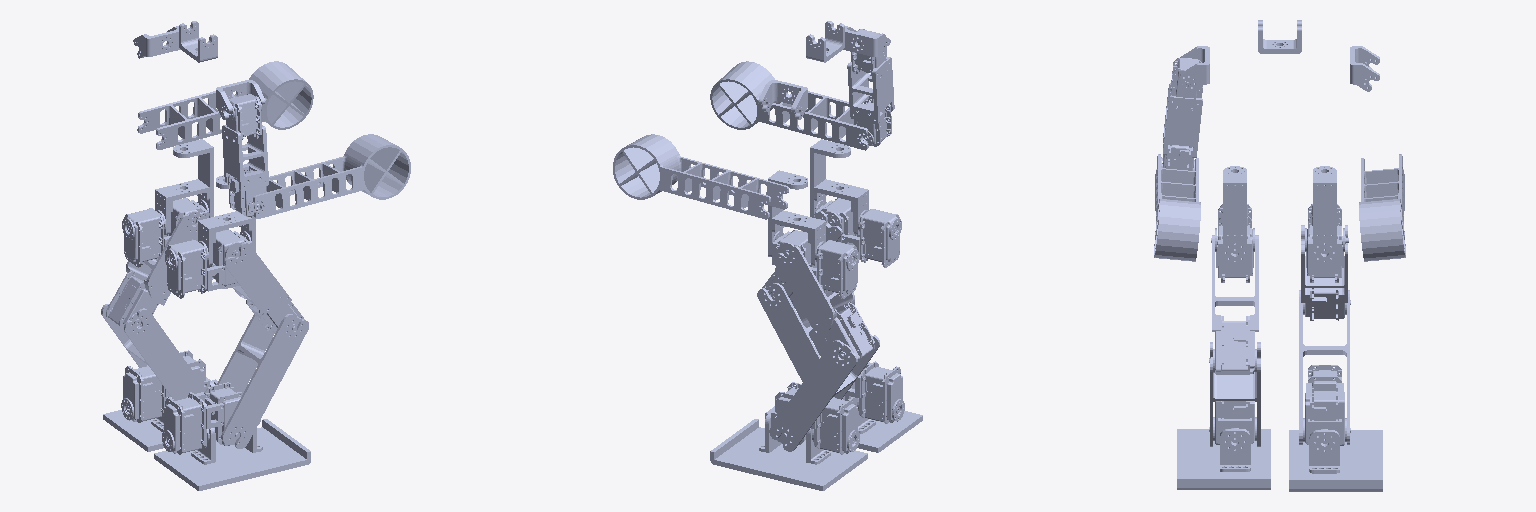
--- Facts derived from the render (not from the file) ---
Views: 3 orthographic renders of the robot side by side, from view 1: azimuth 30°, elevation 25°; view 2: azimuth 150°, elevation 25°; view 3: azimuth 270°, elevation 25°.
Model kubot23N with 21 links and 20 joints (10 revolute, 10 fixed), rooted at base_link, posed all joints at 0.
Visible links, largest first — view 1: R_hand_pitch, R_Knee, L_hand_pitch, R_Ankle_roll, R_elbow_roll, R_Ankle_pitch, L_Knee, R_Hip_roll, L_Hip_pitch, R_Hip_pitch, L_Hip_roll, L_Ankle_pitch (+6 smaller); view 2: L_hand_pitch, R_hand_pitch, L_Ankle_roll, L_Hip_pitch, L_Knee, R_elbow_roll, R_Hip_roll, L_Hip_roll, L_Ankle_pitch, R_Knee, R_Ankle_pitch, R_Hip_yaw (+6 smaller); view 3: L_Ankle_roll, L_hand_pitch, R_hand_pitch, R_Ankle_roll, L_Ankle_pitch, R_Hip_pitch, R_elbow_roll, R_Ankle_pitch, L_Hip_yaw, R_Hip_yaw, L_Hip_pitch, R_Knee (+6 smaller).
Boxes of the visible links, x1,y1,x2,y2 form: R_hand_pitch: (253,134,410,218); R_Knee: (216,314,308,448); L_hand_pitch: (137,61,313,149); R_Ankle_roll: (154,419,310,490); R_elbow_roll: (222,94,268,216); R_Ankle_pitch: (162,382,262,454); L_Knee: (101,304,205,400); R_Hip_roll: (165,230,251,298); L_Hip_pitch: (106,214,197,327); R_Hip_pitch: (224,229,303,332); L_Hip_roll: (122,198,209,267); L_Ankle_pitch: (121,350,214,422); L_hand_pitch: (613,134,788,219); R_hand_pitch: (710,61,868,150); L_Ankle_roll: (710,419,867,490); L_Hip_pitch: (774,246,874,359); L_Knee: (769,335,879,451); R_elbow_roll: (847,29,894,146); R_Hip_roll: (814,198,901,267); L_Hip_roll: (772,230,858,298); L_Ankle_pitch: (759,382,859,454); R_Knee: (757,283,842,399); R_Ankle_pitch: (843,361,904,423); R_Hip_yaw: (810,139,868,234); L_Ankle_roll: (1289,430,1382,491); L_hand_pitch: (1359,154,1405,261); R_hand_pitch: (1154,154,1200,261); R_Ankle_roll: (1177,429,1270,489); L_Ankle_pitch: (1303,365,1350,473); R_Hip_pitch: (1209,235,1258,374); R_elbow_roll: (1161,58,1202,170); R_Ankle_pitch: (1209,401,1256,471); L_Hip_yaw: (1313,166,1336,265); R_Hip_yaw: (1223,166,1246,265); L_Hip_pitch: (1301,225,1350,320); R_Knee: (1210,342,1260,446).
Bounding box of the posed robot: 0.3096 × 0.2945 × 0.5607 m (x, y, z).
Meshes: 21 distinct files referenced, 18 mesh visuals loaded (18 binary STL); not drawn: 3 (reference not matched to a file when rendering).

URDF robot description (kubot23N):
<?xml version="1.0" encoding="utf-8"?>
<!-- This URDF was automatically created by SolidWorks to URDF Exporter! Originally created by Stephen Brawner ([email redacted]) 
     Commit Version: 1.6.0-1-g15f4949  Build Version: 1.6.7594.29634
     For more information, please see http://wiki.ros.org/sw_urdf_exporter -->
<robot
  name="kubot23N">
  <link
    name="base_link">
    <inertial>
      <origin
        xyz="-0.01298 -0.0002287 0.10165"
        rpy="0 0 0" />
      <mass
        value="1.5013" />
      <inertia
        ixx="0.002447"
        ixy="0"
        ixz="0"
        iyy="0.0016369"
        iyz="0"
        izz="0.002646" />
    </inertial>
    <visual>
      <origin
        xyz="0 0 0"
        rpy="0 0 0" />
      <geometry>
        <mesh
          filename="../meshes/base_link.STL" />
      </geometry>
      <material
        name="">
        <color
          rgba="0.79216 0.81961 0.93333 1" />
      </material>
    </visual>
    <collision>
      <origin
        xyz="0 0 0"
        rpy="0 0 0" />
      <geometry>
        <mesh
          filename="../meshes/base_link.STL" />
      </geometry>
    </collision>
  </link>
  <link
    name="L_Hip_yaw">
    <inertial>
      <origin
        xyz="0.0079905 -7.6661E-09 0.037856"
        rpy="0 0 0" />
      <mass
        value="0.042373" />
      <inertia
        ixx="2.0934E-05"
        ixy="0"
        ixz="0"
        iyy="2.3301E-05"
        iyz="0"
        izz="8.0568E-06" />
    </inertial>
    <visual>
      <origin
        xyz="0 0 0"
        rpy="0 0 0" />
      <geometry>
        <mesh
          filename="../meshes/L_Hip_yaw.STL" />
      </geometry>
      <material
        name="">
        <color
          rgba="0.79216 0.81961 0.93333 1" />
      </material>
    </visual>
    <collision>
      <origin
        xyz="0 0 0"
        rpy="0 0 0" />
      <geometry>
        <mesh
          filename="../meshes/L_Hip_yaw.STL" />
      </geometry>
    </collision>
  </link>
  <joint
    name="L_Hip_yaw_joint"
    type="fixed">
    <origin
      xyz="0.02369 0.052535 -0.026869"
      rpy="0 0 0" />
    <parent
      link="base_link" />
    <child
      link="L_Hip_yaw" />
    <axis
      xyz="0 0 1" />
    <limit command_effort="40" current="10" effort="80" gear_velocity="10" lower="-0.01" upper="0.01" velocity="15"/>
    <dynamics damping="1.0" friction="0.1"/>
  </joint>
  <link
    name="L_Hip_roll">
    <inertial>
      <origin
        xyz="-0.026534 3.8583E-05 -0.015186"
        rpy="0 0 0" />
      <mass
        value="0.16184" />
      <inertia
        ixx="5.7094E-05"
        ixy="0"
        ixz="0"
        iyy="5.6447E-05"
        iyz="0"
        izz="3.5594E-05" />
    </inertial>
    <visual>
      <origin
        xyz="0 0 0"
        rpy="0 0 0" />
      <geometry>
        <mesh
          filename="../meshes/L_Hip_roll.STL" />
      </geometry>
      <material
        name="">
        <color
          rgba="0.79216 0.81961 0.93333 1" />
      </material>
    </visual>
    <collision>
      <origin
        xyz="0 0 0"
        rpy="0 0 0" />
      <geometry>
        <mesh
          filename="../meshes/L_Hip_roll.STL" />
      </geometry>
    </collision>
  </link>
  <joint
    name="L_Hip_roll_joint"
    type="revolute">
    <origin
      xyz="0 0 0"
      rpy="0 0 0" />
    <parent
      link="L_Hip_yaw" />
    <child
      link="L_Hip_roll" />
    <axis
      xyz="-1 0 0" />
    <limit command_effort="40" current="10" effort="80" gear_velocity="10" lower="-1.0" upper="1.0" velocity="15"/>
    <dynamics damping="1.0" friction="0.1"/>
  </joint>
  <link
    name="L_Hip_pitch">
    <inertial>
      <origin
        xyz="-0.00049308 0.00014973 -0.10339"
        rpy="0 0 0" />
      <mass
        value="0.13309" />
      <inertia
        ixx="0.00010704"
        ixy="0"
        ixz="0"
        iyy="7.9626E-05"
        iyz="0"
        izz="5.4203E-05" />
    </inertial>
    <visual>
      <origin
        xyz="0 0 0"
        rpy="0 0 0" />
      <geometry>
        <mesh
          filename="../meshes/L_Hip_pitch.STL" />
      </geometry>
      <material
        name="">
        <color
          rgba="0.79216 0.81961 0.93333 1" />
      </material>
    </visual>
    <collision>
      <origin
        xyz="0 0 0"
        rpy="0 0 0" />
      <geometry>
        <mesh
          filename="../meshes/L_Hip_pitch.STL" />
      </geometry>
    </collision>
  </link>
  <joint
    name="L_Hip_pitch_joint"
    type="revolute">
    <origin
      xyz="0 0 0"
      rpy="0 0.592069 0" />
    <parent
      link="L_Hip_roll" />
    <child
      link="L_Hip_pitch" />
    <axis
      xyz="0 -1 0" />
    <limit command_effort="40" current="10" effort="80" gear_velocity="10" lower="-3.0" upper="3.0" velocity="15"/>
    <dynamics damping="1.0" friction="0.1"/>
  </joint>
  <link
    name="L_Knee">
    <inertial>
      <origin
        xyz="-0.0008 0.00019995 -0.071592"
        rpy="0 0 0" />
      <mass
        value="0.064192" />
      <inertia
        ixx="0.00017283"
        ixy="0"
        ixz="0"
        iyy="0.00013756"
        iyz="0"
        izz="5.3025E-05" />
    </inertial>
    <visual>
      <origin
        xyz="0 0 0"
        rpy="0 0 0" />
      <geometry>
        <mesh
          filename="../meshes/L_Knee.STL" />
      </geometry>
      <material
        name="">
        <color
          rgba="0.79216 0.81961 0.93333 1" />
      </material>
    </visual>
    <collision>
      <origin
        xyz="0 0 0"
        rpy="0 0 0" />
      <geometry>
        <mesh
          filename="../meshes/L_Knee.STL" />
      </geometry>
    </collision>
  </link>
  <joint
    name="L_Knee_joint"
    type="revolute">
    <origin
      xyz="0 0 -0.142"
      rpy="0 -1.160804 0" />
    <parent
      link="L_Hip_pitch" />
    <child
      link="L_Knee" />
    <axis
      xyz="0 -1 0" />
    <limit command_effort="40" current="10" effort="80" gear_velocity="10" lower="-3.0" upper="3.0" velocity="15"/>
    <dynamics damping="1.0" friction="0.1"/>
  </joint>
  <link
    name="L_Ankle_pitch">
    <inertial>
      <origin
        xyz="-0.023428 0.00014941 0.013986"
        rpy="0 0 0" />
      <mass
        value="0.202" />
      <inertia
        ixx="8.0067E-05"
        ixy="0"
        ixz="0"
        iyy="7.8271E-05"
        iyz="0"
        izz="4.9146E-05" />
    </inertial>
    <visual>
      <origin
        xyz="0 0 0"
        rpy="0 0 0" />
      <geometry>
        <mesh
          filename="../meshes/L_Ankle_pitch.STL" />
      </geometry>
      <material
        name="">
        <color
          rgba="0.79216 0.81961 0.93333 1" />
      </material>
    </visual>
    <collision>
      <origin
        xyz="0 0 0"
        rpy="0 0 0" />
      <geometry>
        <mesh
          filename="../meshes/L_Ankle_pitch.STL" />
      </geometry>
    </collision>
  </link>
  <joint
    name="L_Ankle_pitch_joint"
    type="revolute">
    <origin
      xyz="0 0 -0.15"
      rpy="0 0.568735 0" />
    <parent
      link="L_Knee" />
    <child
      link="L_Ankle_pitch" />
    <axis
      xyz="0 -1 0" />
    <limit command_effort="40" current="10" effort="80" gear_velocity="10" lower="-1.5" upper="1.5" velocity="15"/>
    <dynamics damping="1.0" friction="0.1"/>
  </joint>
  <link
    name="L_Ankle_roll">
    <inertial>
      <origin
        xyz="0.0032401 0.011838 -0.036203"
        rpy="0 0 0" />
      <mass
        value="0.13947" />
      <inertia
        ixx="0.00013469"
        ixy="0"
        ixz="0"
        iyy="0.00029939"
        iyz="0"
        izz="0.0004274" />
    </inertial>
    <visual>
      <origin
        xyz="0 0 0"
        rpy="0 0 0" />
      <geometry>
        <mesh
          filename="../meshes/L_Ankle_roll.STL" />
      </geometry>
      <material
        name="">
        <color
          rgba="0.79216 0.81961 0.93333 1" />
      </material>
    </visual>
    <collision>
      <origin
        xyz="0 0 0"
        rpy="0 0 0" />
      <geometry>
        <mesh
          filename="../meshes/L_Ankle_roll.STL" />
      </geometry>
    </collision>
  </link>
  <joint
    name="L_Ankle_roll_joint"
    type="revolute">
    <origin
      xyz="0 0 0"
      rpy="0 0 0" />
    <parent
      link="L_Ankle_pitch" />
    <child
      link="L_Ankle_roll" />
    <axis
      xyz="-1 0 0" />
    <limit command_effort="40" current="10" effort="80" gear_velocity="10" lower="-1.0" upper="1.0" velocity="15"/>
    <dynamics damping="0.707" friction="0.1"/>
  </joint>
  <link
    name="R_Hip_yaw">
    <inertial>
      <origin
        xyz="0.0079905 -7.6661E-09 0.037856"
        rpy="0 0 0" />
      <mass
        value="0.042373" />
      <inertia
        ixx="2.0934E-05"
        ixy="0"
        ixz="0"
        iyy="2.3301E-05"
        iyz="0"
        izz="8.0568E-06" />
    </inertial>
    <visual>
      <origin
        xyz="0 0 0"
        rpy="0 0 0" />
      <geometry>
        <mesh
          filename="../meshes/R_Hip_yaw.STL" />
      </geometry>
      <material
        name="">
        <color
          rgba="0.79216 0.81961 0.93333 1" />
      </material>
    </visual>
    <collision>
      <origin
        xyz="0 0 0"
        rpy="0 0 0" />
      <geometry>
        <mesh
          filename="../meshes/R_Hip_yaw.STL" />
      </geometry>
    </collision>
  </link>
  <joint
    name="R_Hip_yaw_joint"
    type="fixed">
    <origin
      xyz="0.02369 -0.052065 -0.026869"
      rpy="0 0 0" />
    <parent
      link="base_link" />
    <child
      link="R_Hip_yaw" />
    <axis
      xyz="0 0 1" />
    <limit command_effort="40" current="10" effort="80" gear_velocity="10" lower="0" upper="0" velocity="15"/>
    <dynamics damping="0.707" friction="0.1"/>
  </joint>
  <link
    name="R_Hip_roll">
    <inertial>
      <origin
        xyz="-0.026534 -3.8624E-05 -0.015186"
        rpy="0 0 0" />
      <mass
        value="0.16184" />
      <inertia
        ixx="5.7094E-05"
        ixy="0"
        ixz="0"
        iyy="5.6447E-05"
        iyz="0"
        izz="3.5594E-05" />
    </inertial>
    <visual>
      <origin
        xyz="0 0 0"
        rpy="0 0 0" />
      <geometry>
        <mesh
          filename="../meshes/R_Hip_roll.STL" />
      </geometry>
      <material
        name="">
        <color
          rgba="0.79216 0.81961 0.93333 1" />
      </material>
    </visual>
    <collision>
      <origin
        xyz="0 0 0"
        rpy="0 0 0" />
      <geometry>
        <mesh
          filename="../meshes/R_Hip_roll.STL" />
      </geometry>
    </collision>
  </link>
  <joint
    name="R_Hip_roll_joint"
    type="revolute">
    <origin
      xyz="0 0 0"
      rpy="0 0 0" />
    <parent
      link="R_Hip_yaw" />
    <child
      link="R_Hip_roll" />
    <axis
      xyz="-1 0 0" />
    <limit command_effort="40" current="10" effort="80" gear_velocity="10" lower="-1.0" upper="1.0" velocity="15"/>
    <dynamics damping="1.0" friction="0.1"/>
  </joint>
  <link
    name="R_Hip_pitch">
    <inertial>
      <origin
        xyz="-0.0004978 -0.00014979 -0.10339"
        rpy="0 0 0" />
      <mass
        value="0.13309" />
      <inertia
        ixx="0.00010704"
        ixy="0"
        ixz="0"
        iyy="7.9626E-05"
        iyz="0"
        izz="5.4203E-05" />
    </inertial>
    <visual>
      <origin
        xyz="0 0 0"
        rpy="0 0 0" />
      <geometry>
        <mesh
          filename="../meshes/R_Hip_pitch.STL" />
      </geometry>
      <material
        name="">
        <color
          rgba="0.79216 0.81961 0.93333 1" />
      </material>
    </visual>
    <collision>
      <origin
        xyz="0 0 0"
        rpy="0 0 0" />
      <geometry>
        <mesh
          filename="../meshes/R_Hip_pitch.STL" />
      </geometry>
    </collision>
  </link>
  <joint
    name="R_Hip_pitch_joint"
    type="revolute">
    <origin
      xyz="0 0 0"
      rpy="0 -0.592069 0" />
    <parent
      link="R_Hip_roll" />
    <child
      link="R_Hip_pitch" />
    <axis
      xyz="0 1 0" />
    <limit command_effort="40" current="10" effort="80" gear_velocity="10" lower="-3.0" upper="3.0" velocity="15"/>
    <dynamics damping="1.0" friction="0.1"/>
  </joint>
  <link
    name="R_Knee">
    <inertial>
      <origin
        xyz="-0.0008 -0.00020005 -0.071592"
        rpy="0 0 0" />
      <mass
        value="0.064192" />
      <inertia
        ixx="0.00017283"
        ixy="0"
        ixz="0"
        iyy="0.00013756"
        iyz="0"
        izz="5.3025E-05" />
    </inertial>
    <visual>
      <origin
        xyz="0 0 0"
        rpy="0 0 0" />
      <geometry>
        <mesh
          filename="../meshes/R_Knee.STL" />
      </geometry>
      <material
        name="">
        <color
          rgba="0.79216 0.81961 0.93333 1" />
      </material>
    </visual>
    <collision>
      <origin
        xyz="0 0 0"
        rpy="0 0 0" />
      <geometry>
        <mesh
          filename="../meshes/R_Knee.STL" />
      </geometry>
    </collision>
  </link>
  <joint
    name="R_Knee_joint"
    type="revolute">
    <origin
      xyz="0 0 -0.142"
      rpy="0 1.160804 0" />
    <parent
      link="R_Hip_pitch" />
    <child
      link="R_Knee" />
    <axis
      xyz="0 1 0" />
    <limit command_effort="40" current="10" effort="80" gear_velocity="10" lower="-3.0" upper="3.0" velocity="15"/>
    <dynamics damping="1.0" friction="0.1"/>
  </joint>
  <link
    name="R_Ankle_pitch">
    <inertial>
      <origin
        xyz="-0.023731 -0.00015295 0.01407"
        rpy="0 0 0" />
      <mass
        value="0.20079" />
      <inertia
        ixx="7.9929E-05"
        ixy="0"
        ixz="0"
        iyy="7.8201E-05"
        iyz="0"
        izz="4.9077E-05" />
    </inertial>
    <visual>
      <origin
        xyz="0 0 0"
        rpy="0 0 0" />
      <geometry>
        <mesh
          filename="../meshes/R_Ankle_pitch.STL" />
      </geometry>
      <material
        name="">
        <color
          rgba="0.79216 0.81961 0.93333 1" />
      </material>
    </visual>
    <collision>
      <origin
        xyz="0 0 0"
        rpy="0 0 0" />
      <geometry>
        <mesh
          filename="../meshes/R_Ankle_pitch.STL" />
      </geometry>
    </collision>
  </link>
  <joint
    name="R_Ankle_pitch_joint"
    type="revolute">
    <origin
      xyz="0 0 -0.15"
      rpy="0 -0.568735 0" />
    <parent
      link="R_Knee" />
    <child
      link="R_Ankle_pitch" />
    <axis
      xyz="0 1 0" />
    <limit command_effort="40" current="10" effort="80" gear_velocity="10" lower="-1.5" upper="1.5" velocity="15"/>
    <dynamics damping="1.0" friction="0.1"/>
  </joint>
  <link
    name="R_Ankle_roll">
    <inertial>
      <origin
        xyz="0.0032401 -0.011838 -0.036203"
        rpy="0 0 0" />
      <mass
        value="0.13947" />
      <inertia
        ixx="0.00013469"
        ixy="0"
        ixz="0"
        iyy="0.00029939"
        iyz="0"
        izz="0.0004274" />
    </inertial>
    <visual>
      <origin
        xyz="0 0 0"
        rpy="0 0 0" />
      <geometry>
        <mesh
          filename="../meshes/R_Ankle_roll.STL" />
      </geometry>
      <material
        name="">
        <color
          rgba="0.79216 0.81961 0.93333 1" />
      </material>
    </visual>
    <collision>
      <origin
        xyz="0 0 0"
        rpy="0 0 0" />
      <geometry>
        <mesh
          filename="../meshes/R_Ankle_roll.STL" />
      </geometry>
    </collision>
  </link>
  <joint
    name="R_Ankle_roll_joint"
    type="revolute">
    <origin
      xyz="0 0 0"
      rpy="0 0 0" />
    <parent
      link="R_Ankle_pitch" />
    <child
      link="R_Ankle_roll" />
    <axis
      xyz="-1 0 0" />
    <limit command_effort="40" current="10" effort="80" gear_velocity="10" lower="-1.0" upper="1.0" velocity="15"/>
    <dynamics damping="0.707" friction="0.1"/>
  </joint>
  <link
    name="L_shoulder_pitch">
    <inertial>
      <origin
        xyz="-5.0536E-10 0.010248 -0.0016377"
        rpy="0 0 0" />
      <mass
        value="0.01447" />
      <inertia
        ixx="2.0393E-06"
        ixy="0"
        ixz="0"
        iyy="6.5772E-06"
        iyz="0"
        izz="6.757E-06" />
    </inertial>
    <visual>
      <origin
        xyz="0 0 0"
        rpy="0 0 0" />
      <geometry>
        <mesh
          filename="../meshes/L_shoulder_pitch.STL" />
      </geometry>
      <material
        name="">
        <color
          rgba="0.79216 0.81961 0.93333 1" />
      </material>
    </visual>
    <collision>
      <origin
        xyz="0 0 0"
        rpy="0 0 0" />
      <geometry>
        <mesh
          filename="../meshes/L_shoulder_pitch.STL" />
      </geometry>
    </collision>
  </link>
  <joint
    name="L_shoulder_pitch_joint"
    type="fixed">
    <origin
      xyz="0.01519 0.081985 0.19521"
      rpy="0 0 0" />
    <parent
      link="base_link" />
    <child
      link="L_shoulder_pitch" />
    <axis
      xyz="0 -1 0" />
    <limit command_effort="40" current="10" effort="80" gear_velocity="10" lower="-0.05" upper="0.05" velocity="15"/>
    <dynamics damping="0.707" friction="0.1"/>
  </joint>
  <link
    name="L_elbow_roll">
    <inertial>
      <origin
        xyz="-0.02074 1.0222E-05 -0.061881"
        rpy="0 0 0" />
      <mass
        value="0.12312" />
      <inertia
        ixx="4.1405E-05"
        ixy="0"
        ixz="0"
        iyy="4.4134E-05"
        iyz="0"
        izz="2.9326E-05" />
    </inertial>
    <visual>
      <origin
        xyz="0 0 0"
        rpy="0 0 0" />
      <geometry>
        <mesh
          filename="../meshes/L_elbow_roll.STL" />
      </geometry>
      <material
        name="">
        <color
          rgba="0.79216 0.81961 0.93333 1" />
      </material>
    </visual>
    <collision>
      <origin
        xyz="0 0 0"
        rpy="0 0 0" />
      <geometry>
        <mesh
          filename="../meshes/L_elbow_roll.STL" />
      </geometry>
    </collision>
  </link>
  <joint
    name="L_elbow_roll_joint"
    type="fixed">
    <origin
      xyz="0.020275 0.025656 -0.01045"
      rpy="0.1 0 0" />
    <parent
      link="L_shoulder_pitch" />
    <child
      link="L_elbow_roll" />
    <axis
      xyz="-1 0 0" />
    <limit command_effort="40" current="10" effort="80" gear_velocity="10" lower="-0.1" upper="0.03" velocity="15"/>
    <dynamics damping="1.0" friction="0.1"/>
  </joint>
  <link
    name="L_hand_pitch">
    <inertial>
      <origin
        xyz="-2.6021E-15 -0.020275 -0.13605"
        rpy="0 0 0" />
      <mass
        value="0.085842" />
      <inertia
        ixx="0.00035605"
        ixy="0"
        ixz="0"
        iyy="0.00035569"
        iyz="0"
        izz="4.765E-05" />
    </inertial>
    <visual>
      <origin
        xyz="0 0 0"
        rpy="0 0 0" />
      <geometry>
        <mesh
          filename="../meshes/L_hand_pitch.STL" />
      </geometry>
      <material
        name="">
        <color
          rgba="0.79216 0.81961 0.93333 1" />
      </material>
    </visual>
    <collision>
      <origin
        xyz="0 0 0"
        rpy="0 0 0" />
      <geometry>
        <mesh
          filename="../meshes/L_hand_pitch.STL" />
      </geometry>
    </collision>
  </link>
  <joint
    name="L_hand_pitch_joint"
    type="fixed">
    <origin
      xyz="-0.02075 0.02075 -0.1231"
      rpy="0 -1.6 0" />
    <parent
      link="L_elbow_roll" />
    <child
      link="L_hand_pitch" />
    <axis
      xyz="0 -1 0" />
    <limit command_effort="40" current="10" effort="80" gear_velocity="10" lower="-0.01" upper="0.03" velocity="15"/>
    <dynamics damping="0.707" friction="0.1"/>
  </joint>
  <link
    name="R_shoulder_pitch">
    <inertial>
      <origin
        xyz="5.0536E-10 -0.010248 -0.0016377"
        rpy="0 0 0" />
      <mass
        value="0.01447" />
      <inertia
        ixx="2.0393E-06"
        ixy="0"
        ixz="0"
        iyy="6.5772E-06"
        iyz="0"
        izz="6.757E-06" />
    </inertial>
    <visual>
      <origin
        xyz="0 0 0"
        rpy="0 0 0" />
      <geometry>
        <mesh
          filename="../meshes/R_shoulder_pitch.STL" />
      </geometry>
      <material
        name="">
        <color
          rgba="0.79216 0.81961 0.93333 1" />
      </material>
    </visual>
    <collision>
      <origin
        xyz="0 0 0"
        rpy="0 0 0" />
      <geometry>
        <mesh
          filename="../meshes/R_shoulder_pitch.STL" />
      </geometry>
    </collision>
  </link>
  <joint
    name="R_shoulder_pitch_joint"
    type="fixed">
    <origin
      xyz="0.01519 -0.081515 0.19521"
      rpy="0 0 0" />
    <parent
      link="base_link" />
    <child
      link="R_shoulder_pitch" />
    <axis
      xyz="0 1 0" />
    <limit command_effort="40" current="10" effort="80" gear_velocity="10" lower="-0.05" upper="0.05" velocity="15"/>
    <dynamics damping="0.707" friction="0.1"/>
  </joint>
  <link
    name="R_elbow_roll">
    <inertial>
      <origin
        xyz="-0.020741 -8.8027E-06 -0.061881"
        rpy="0 0 0" />
      <mass
        value="0.12312" />
      <inertia
        ixx="4.1405E-05"
        ixy="0"
        ixz="0"
        iyy="4.4134E-05"
        iyz="0"
        izz="2.9326E-05" />
    </inertial>
    <visual>
      <origin
        xyz="0 0 0"
        rpy="0 0 0" />
      <geometry>
        <mesh
          filename="../meshes/R_elbow_roll.STL" />
      </geometry>
      <material
        name="">
        <color
          rgba="0.79216 0.81961 0.93333 1" />
      </material>
    </visual>
    <collision>
      <origin
        xyz="0 0 0"
        rpy="0 0 0" />
      <geometry>
        <mesh
          filename="../meshes/R_elbow_roll.STL" />
      </geometry>
    </collision>
  </link>
  <joint
    name="R_elbow_roll_joint"
    type="fixed">
    <origin
      xyz="0.020275 -0.025656 -0.01045"
      rpy="-0.1 0 0" />
    <parent
      link="R_shoulder_pitch" />
    <child
      link="R_elbow_roll" />
    <axis
      xyz="-1 0 0" />
    <limit command_effort="40" current="10" effort="80" gear_velocity="10" lower="-0.03" upper="0.1" velocity="15"/>
    <dynamics damping="1.0" friction="0.1"/>
  </joint>
  <link
    name="R_hand_pitch">
    <inertial>
      <origin
        xyz="-4.8572E-16 0.020275 -0.13605"
        rpy="0 0 0" />
      <mass
        value="0.085842" />
      <inertia
        ixx="0.00035605"
        ixy="0"
        ixz="0"
        iyy="0.00035569"
        iyz="0"
        izz="4.765E-05" />
    </inertial>
    <visual>
      <origin
        xyz="0 0 0"
        rpy="0 0 0" />
      <geometry>
        <mesh
          filename="../meshes/R_hand_pitch.STL" />
      </geometry>
      <material
        name="">
        <color
          rgba="0.79216 0.81961 0.93333 1" />
      </material>
    </visual>
    <collision>
      <origin
        xyz="0 0 0"
        rpy="0 0 0" />
      <geometry>
        <mesh
          filename="../meshes/R_hand_pitch.STL" />
      </geometry>
    </collision>
  </link>
  <joint
    name="R_hand_pitch_joint"
    type="fixed">
    <origin
      xyz="-0.02075 -0.02075 -0.1231"
      rpy="0 -1.6 0" />
    <parent
      link="R_elbow_roll" />
    <child
      link="R_hand_pitch" />
    <axis
      xyz="0 1 0" />
    <limit command_effort="40" current="10" effort="80" gear_velocity="10" lower="-0.03" upper="0.01" velocity="15"/>
    <dynamics damping="0.707" friction="0.1"/>
  </joint>
  <link
    name="Neck_yaw">
    <inertial>
      <origin
        xyz="1.027E-15 2.3592E-16 0.010333"
        rpy="0 0 0" />
      <mass
        value="0.014237" />
      <inertia
        ixx="6.6446E-06"
        ixy="0"
        ixz="0"
        iyy="1.9564E-06"
        iyz="0"
        izz="6.2867E-06" />
    </inertial>
    <visual>
      <origin
        xyz="0 0 0"
        rpy="0 0 0" />
      <geometry>
        <mesh
          filename="../meshes/Neck_yaw.STL" />
      </geometry>
      <material
        name="">
        <color
          rgba="0.79216 0.81961 0.93333 1" />
      </material>
    </visual>
    <collision>
      <origin
        xyz="0 0 0"
        rpy="0 0 0" />
      <geometry>
        <mesh
          filename="../meshes/Neck_yaw.STL" />
      </geometry>
    </collision>
  </link>
  <joint
    name="Neck_yaw_joint"
    type="fixed">
    <origin
      xyz="0.01344 0.00023493 0.21516"
      rpy="0 0 0" />
    <parent
      link="base_link" />
    <child
      link="Neck_yaw" />
    <axis
      xyz="0 0 -1" />
    <limit command_effort="40" current="10" effort="80" gear_velocity="10" lower="-0.01" upper="0.01" velocity="15"/>
    <dynamics damping="0.707" friction="0.1"/>
  </joint>
  <link
    name="head_pitch">
    <inertial>
      <origin
        xyz="-0.00087615 -0.00049281 0.038502"
        rpy="0 0 0" />
      <mass
        value="0.14082" />
      <inertia
        ixx="0.0001309"
        ixy="0"
        ixz="0"
        iyy="2.5779E-05"
        iyz="0"
        izz="0.00012811" />
    </inertial>
    <visual>
      <origin
        xyz="0 0 0"
        rpy="0 0 0" />
      <geometry>
        <mesh
          filename="../meshes/head_pitch.STL" />
      </geometry>
      <material
        name="">
        <color
          rgba="0.79216 0.81961 0.93333 1" />
      </material>
    </visual>
    <collision>
      <origin
        xyz="0 0 0"
        rpy="0 0 0" />
      <geometry>
        <mesh
          filename="../meshes/head_pitch.STL" />
      </geometry>
    </collision>
  </link>
  <joint
    name="head_pitch_joint"
    type="fixed">
    <origin
      xyz="0 0 0.0275"
      rpy="0 0 0" />
    <parent
      link="Neck_yaw" />
    <child
      link="head_pitch" />
    <axis
      xyz="0 1 0" />
    <limit command_effort="40" current="10" effort="80" gear_velocity="10" lower="-0.01" upper="0.01" velocity="15"/>
    <dynamics damping="0.707" friction="0.1"/>
  </joint>
</robot>
